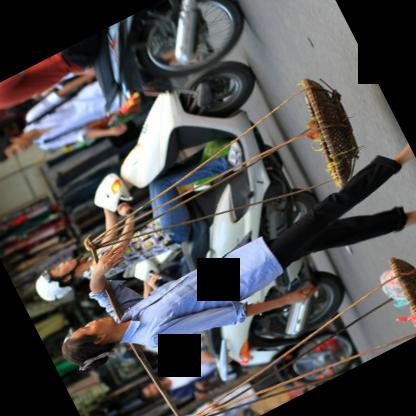backpack: (23, 81, 88, 141)
